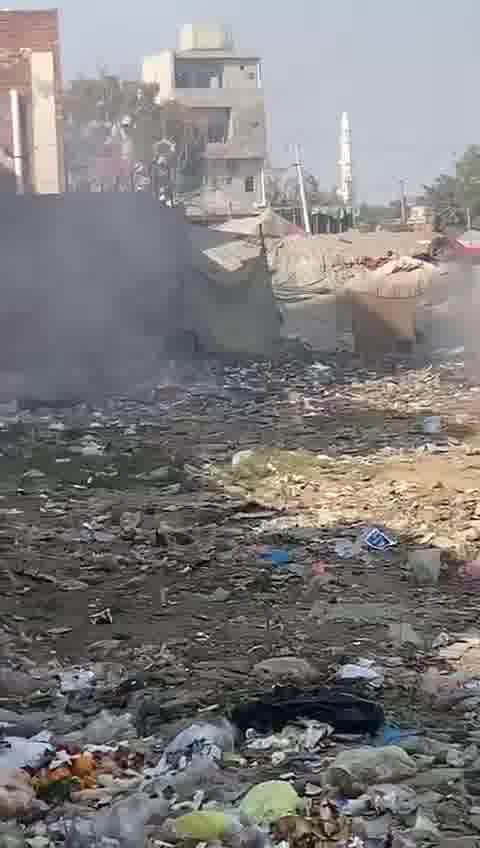garbage: (0, 366, 480, 848)
